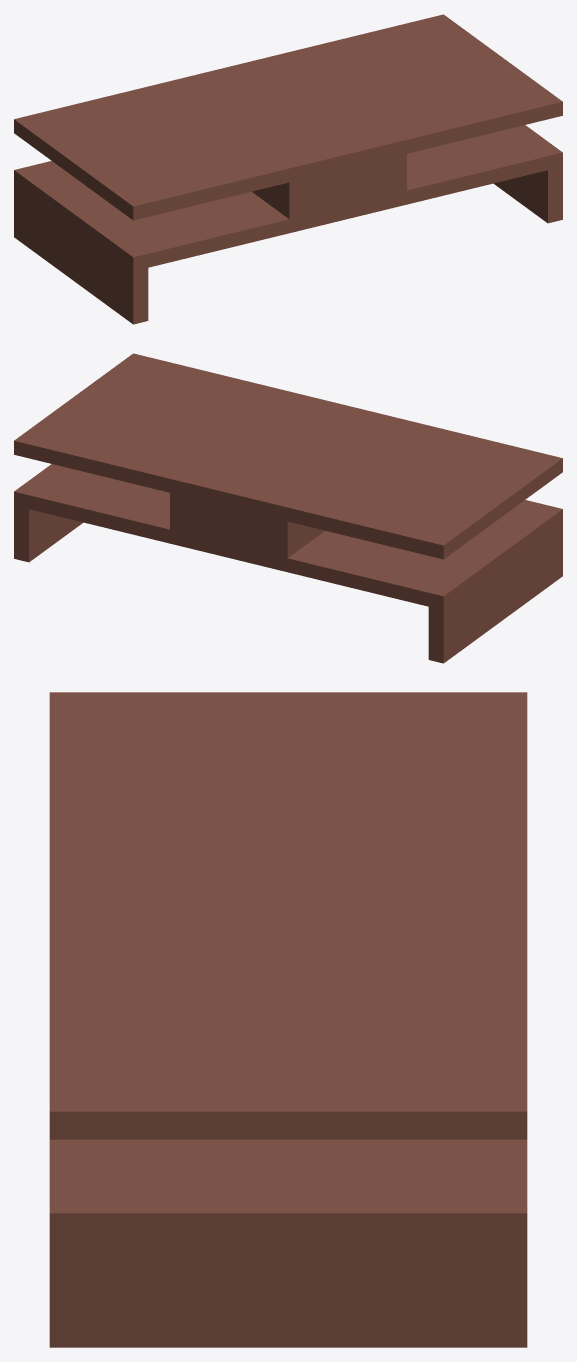
The model's file is coffee_table_023.glb.
The picture shows the model from 3 angles, top to bottom: view 1: azimuth 30°, elevation 25°; view 2: azimuth 150°, elevation 25°; view 3: azimuth 270°, elevation 25°; orthographic projection. The views are drawn at different scales.
Visible parts, largest first — view 1: coffee_table_023; view 2: coffee_table_023; view 3: coffee_table_023.
Part boxes in pixels (x1,y1,x2,y2): coffee_table_023: (14,14,562,324); coffee_table_023: (14,353,562,663); coffee_table_023: (49,692,527,1347).
Bounding box in the file's own units: 1.11 × 0.2902 × 0.5319.
1 material, 1 textured.
